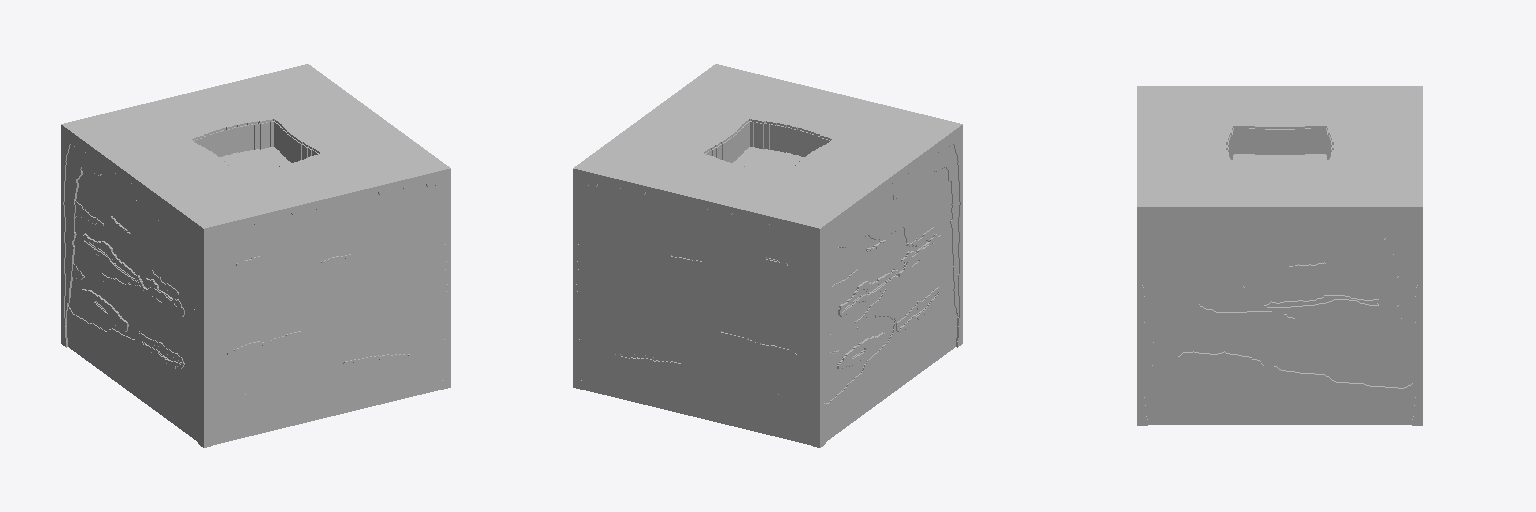
Rendered from pedestal.obj.
The picture shows the model from 3 angles: view 1: azimuth 30°, elevation 25°; view 2: azimuth 150°, elevation 25°; view 3: azimuth 270°, elevation 25°; orthographic projection.
Visible parts, largest first — view 1: object 1; view 2: object 1; view 3: object 1.
Boxes of the visible parts, x1,y1,x2,y2 form: object 1: [61, 64, 450, 447]; object 1: [573, 64, 962, 447]; object 1: [1137, 86, 1422, 425].
Size of the model in its own units: 25.6 by 21.7 by 25.6.